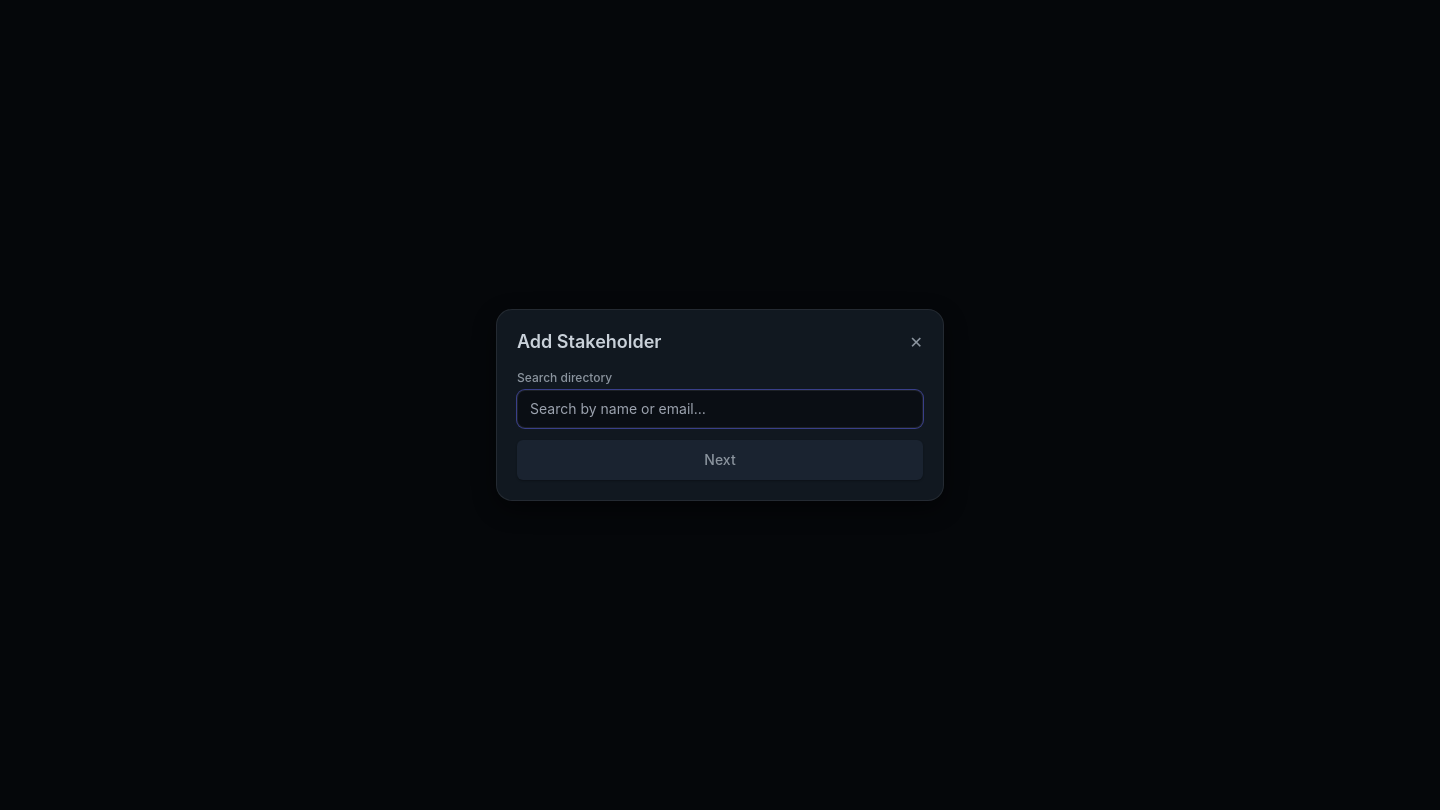
StakeholderPicker › shows already added users as disabled
Type "Sarah" into the field with test id "stakeholder-search-input". click: (720, 409)
box: top-left (517, 390), bottom-right (923, 428)
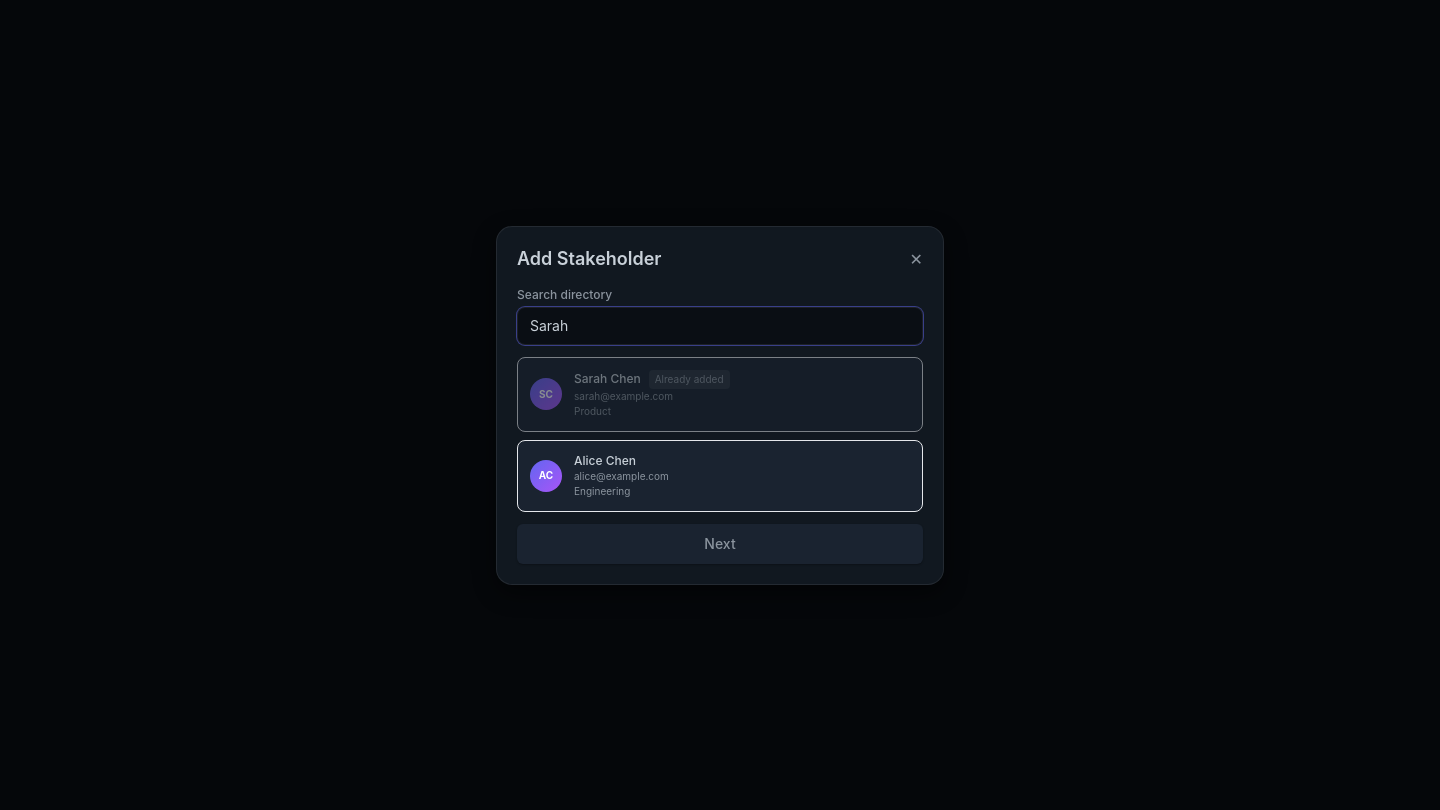
Expected: the text "Already added" is shown, top-left (649, 370), bottom-right (730, 388)
